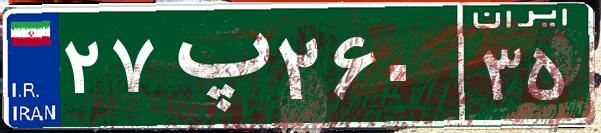0: (385, 28, 445, 110)
2: (273, 28, 330, 110), (57, 26, 110, 107)
3: (475, 38, 525, 113)
5: (525, 38, 570, 115)
6: (330, 28, 385, 110)
7: (110, 28, 158, 105)
پ: (158, 15, 273, 115)
